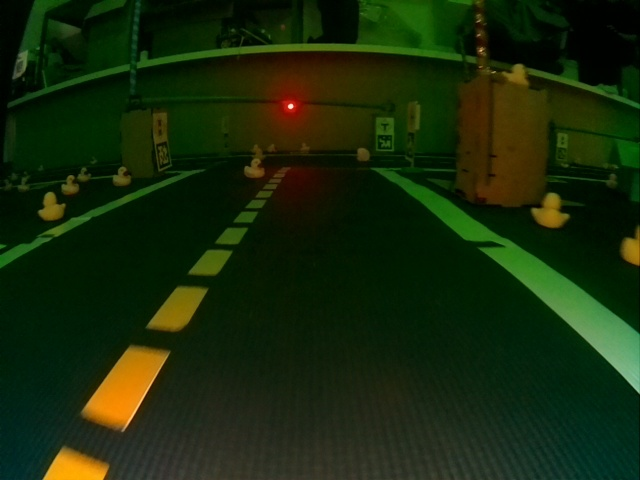Duckie: (531, 192, 570, 228), (39, 191, 66, 221), (503, 64, 530, 87), (245, 159, 265, 178), (112, 167, 131, 185), (62, 175, 79, 192), (78, 168, 91, 182), (357, 147, 369, 160)
Intersection sign: (379, 118, 392, 132)
QR code: (155, 141, 171, 170), (377, 134, 393, 151)
Signal sign: (152, 112, 167, 140)
Traffic light: (284, 99, 297, 111)
